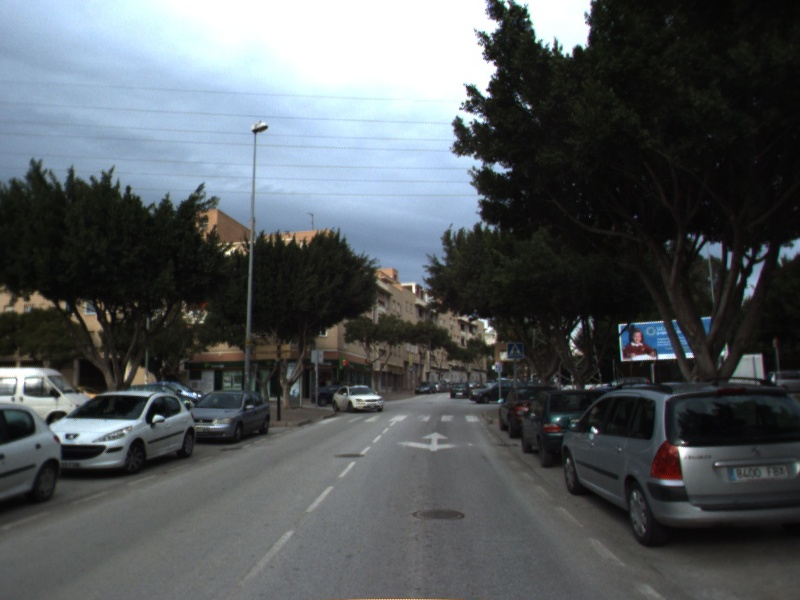STRAIGHT_LEFT_RIGHT: (394, 429, 476, 454)
